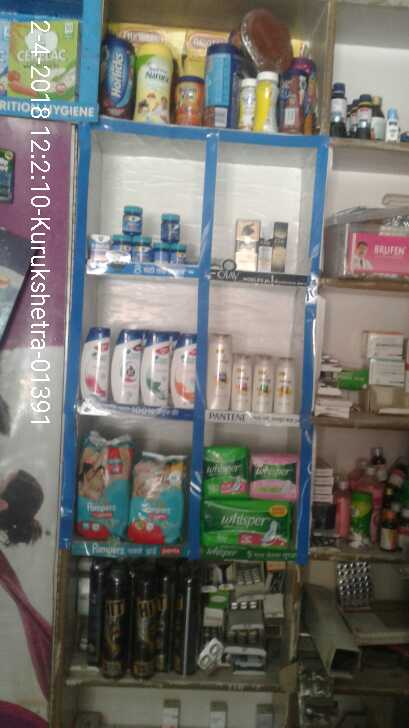vicks: (113, 197, 186, 269), (87, 231, 110, 259)
